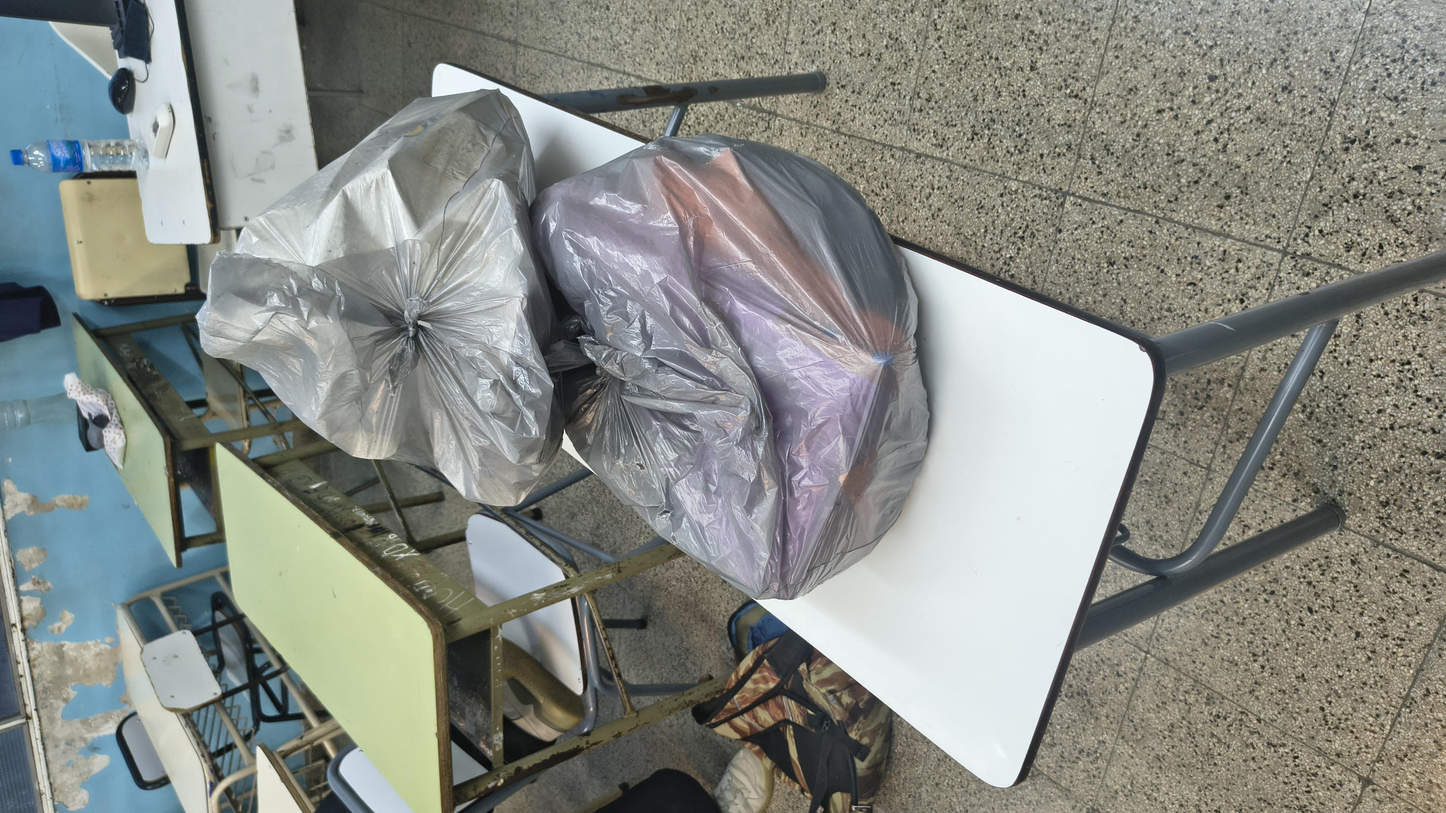Garbage: (345, 290, 1230, 538), (515, 97, 1331, 320)
